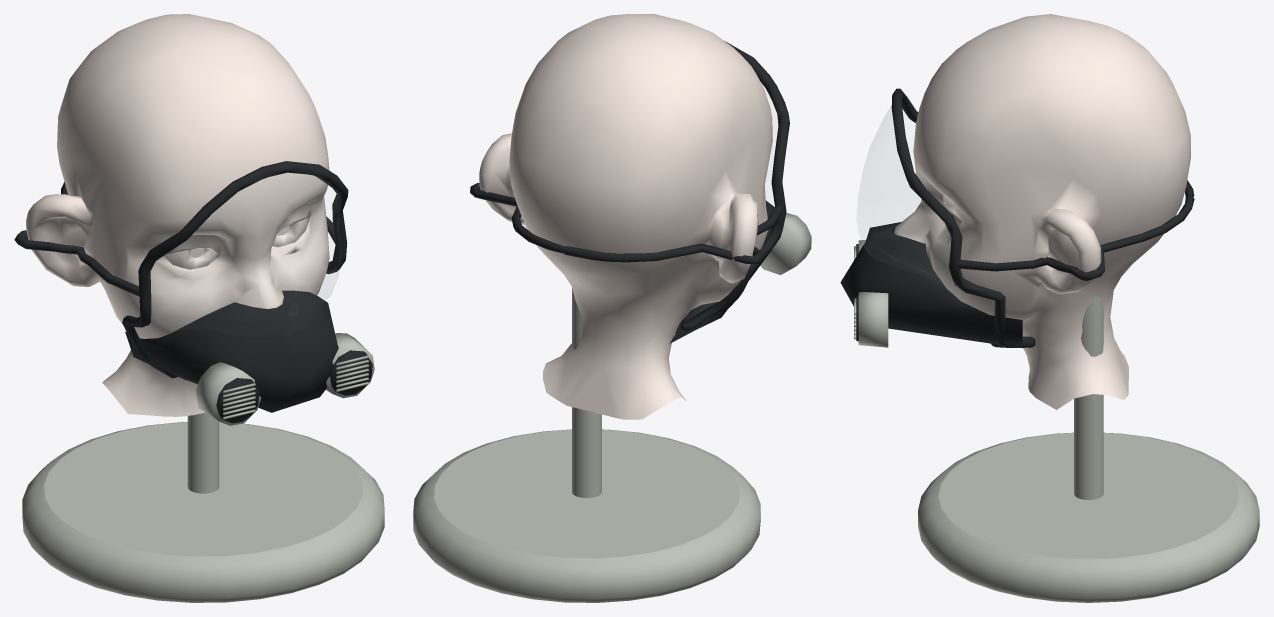
The model's file is rain.acc.hazmat-mask.glb.
3 views of the same model, side by side, from view 1: azimuth 30°, elevation 25°; view 2: azimuth 150°, elevation 25°; view 3: azimuth 270°, elevation 25° (orthographic). The views are drawn at different scales.
Visible parts, largest first — view 1: GEO-rain-head, stand_base, Foundation.Mask.FittedLowerCup, Foundation.Mask.ContinuousSeal, stand_stem, Foundation.Mask.Filter-1, Foundation.Mask.SideStrap-1, GEO-rain-eyes, Foundation.Mask.FilterGrid1, Foundation.Mask.FilterGrid-1, Foundation.Mask.Filter1; view 2: GEO-rain-head, stand_base, Foundation.Mask.ContinuousSeal, stand_stem, Foundation.Mask.SideStrap-1, Foundation.Mask.Filter-1, Foundation.Mask.SideStrap1, Foundation.Mask.FittedLowerCup; view 3: GEO-rain-head, stand_base, Foundation.Mask.FittedLowerCup, Foundation.Mask.ClearVisor, stand_stem, Foundation.Mask.ContinuousSeal, Foundation.Mask.SideStrap1, Foundation.Mask.Filter1.
Part boxes in pixels (x1=…): GEO-rain-head: x1=25, y1=14, x2=329, y2=416; stand_base: x1=22, y1=422, x2=384, y2=602; Foundation.Mask.FittedLowerCup: x1=125, y1=290, x2=338, y2=412; Foundation.Mask.ContinuousSeal: x1=122, y1=161, x2=348, y2=380; stand_stem: x1=187, y1=412, x2=219, y2=493; Foundation.Mask.Filter-1: x1=195, y1=362, x2=261, y2=425; Foundation.Mask.SideStrap-1: x1=14, y1=182, x2=139, y2=296; GEO-rain-eyes: x1=164, y1=218, x2=307, y2=269; Foundation.Mask.FilterGrid1: x1=330, y1=350, x2=372, y2=395; Foundation.Mask.FilterGrid-1: x1=216, y1=378, x2=259, y2=423; Foundation.Mask.Filter1: x1=326, y1=333, x2=374, y2=398; GEO-rain-head: x1=479, y1=14, x2=772, y2=419; stand_base: x1=413, y1=429, x2=760, y2=602; Foundation.Mask.ContinuousSeal: x1=680, y1=41, x2=789, y2=331; stand_stem: x1=572, y1=288, x2=601, y2=498; Foundation.Mask.SideStrap-1: x1=563, y1=205, x2=783, y2=264; Foundation.Mask.Filter-1: x1=760, y1=213, x2=811, y2=274; Foundation.Mask.SideStrap1: x1=470, y1=183, x2=565, y2=253; Foundation.Mask.FittedLowerCup: x1=669, y1=200, x2=774, y2=343; GEO-rain-head: x1=894, y1=14, x2=1190, y2=409; stand_base: x1=918, y1=432, x2=1259, y2=602; Foundation.Mask.FittedLowerCup: x1=840, y1=222, x2=1024, y2=348; Foundation.Mask.ClearVisor: x1=857, y1=108, x2=953, y2=282; stand_stem: x1=1074, y1=296, x2=1103, y2=499; Foundation.Mask.ContinuousSeal: x1=891, y1=88, x2=1035, y2=347; Foundation.Mask.SideStrap1: x1=957, y1=194, x2=1194, y2=280; Foundation.Mask.Filter1: x1=858, y1=292, x2=888, y2=347.
Bounding box in the file's own units: 0.425 × 0.6269 × 0.48.
